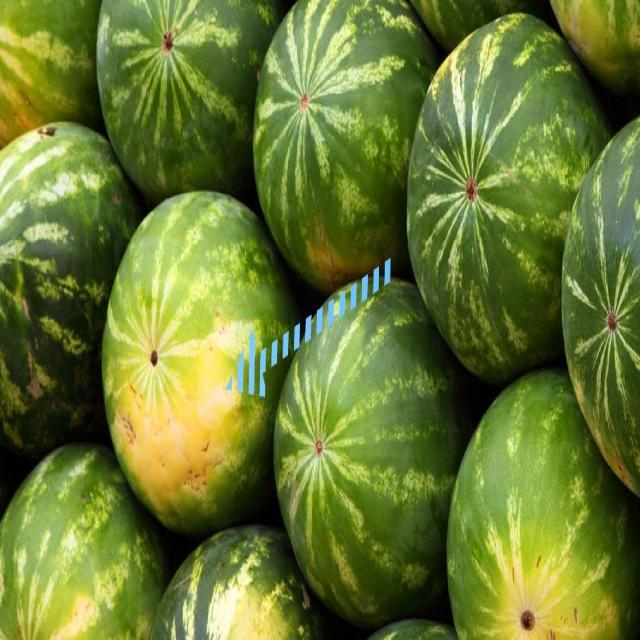Watermelon: (408, 16, 610, 383), (274, 279, 472, 626), (102, 191, 299, 536), (254, 0, 439, 293), (448, 369, 640, 637), (0, 122, 144, 455), (96, 0, 282, 202), (0, 444, 170, 637), (561, 117, 640, 494)
